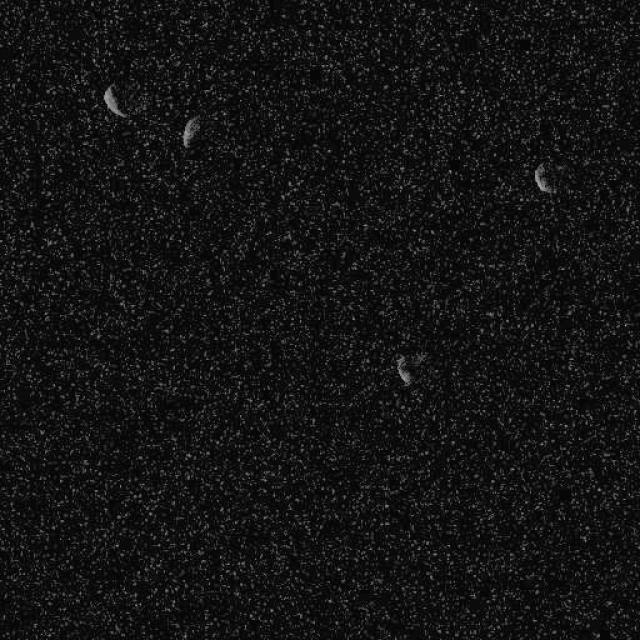D2: (0, 0, 639, 639), (393, 349, 428, 386), (101, 81, 128, 119), (533, 161, 555, 194), (180, 114, 201, 148)
